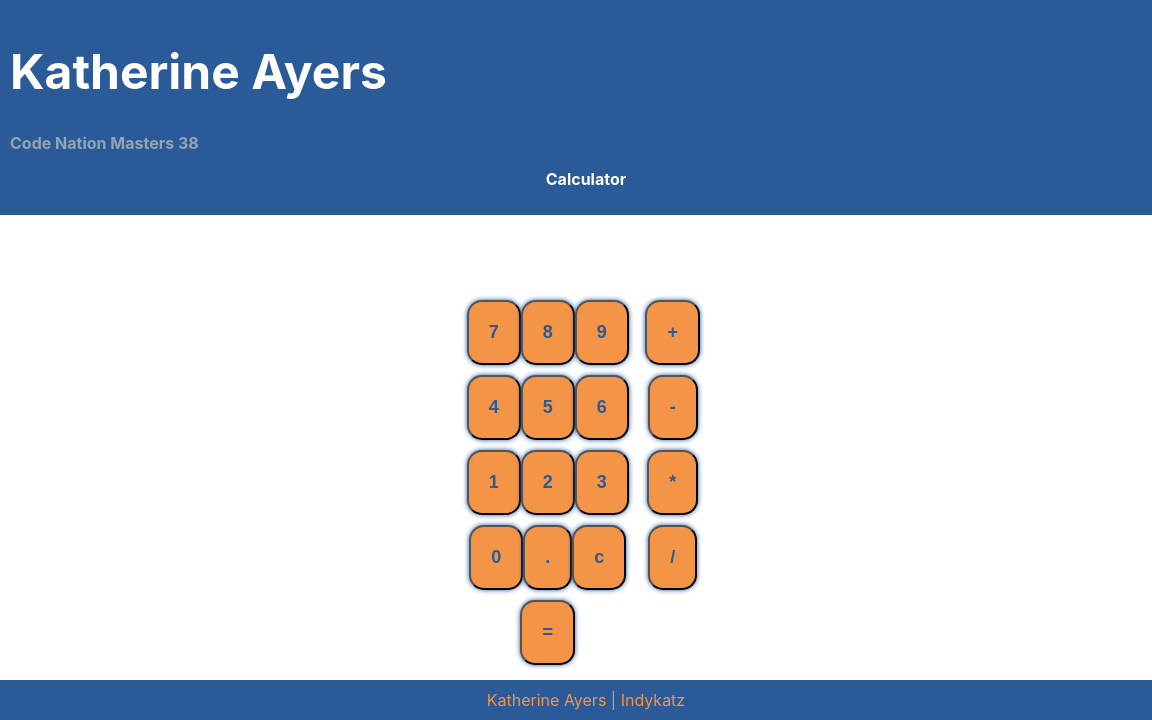
Test: should display 3 wen the user enters 3 * 2
Click the button "3" at [602, 483], box [575,450,629,515]
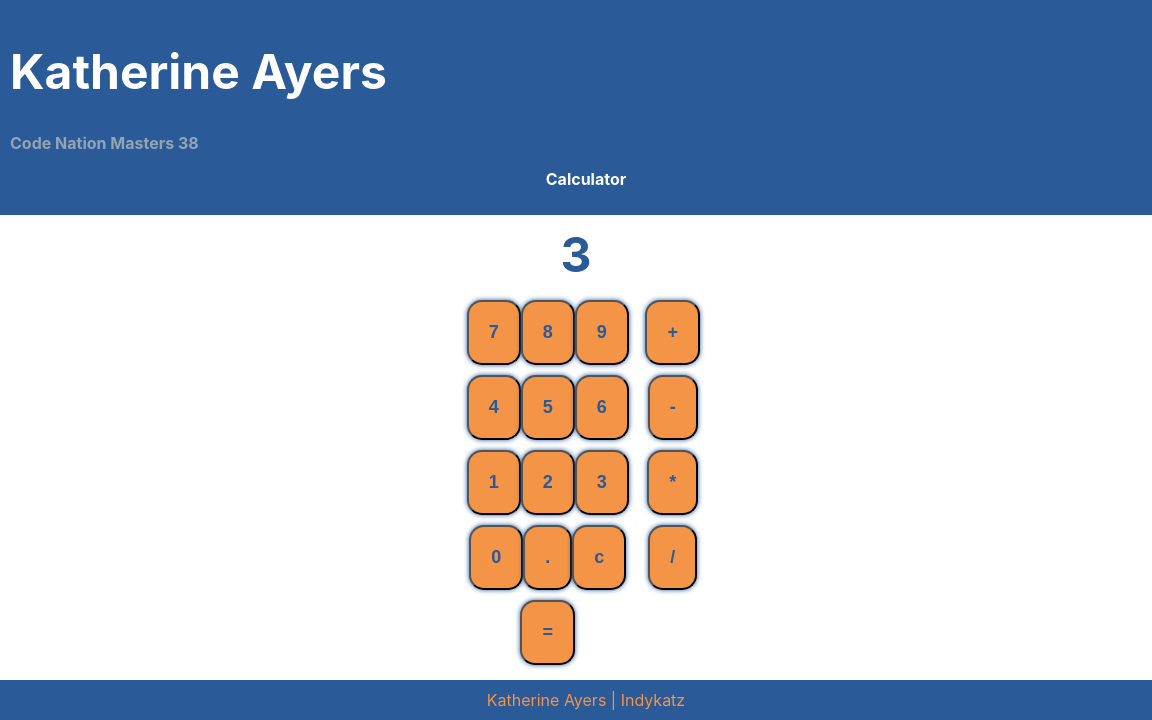
Click the button "*" at [673, 483], box [647,450,698,515]
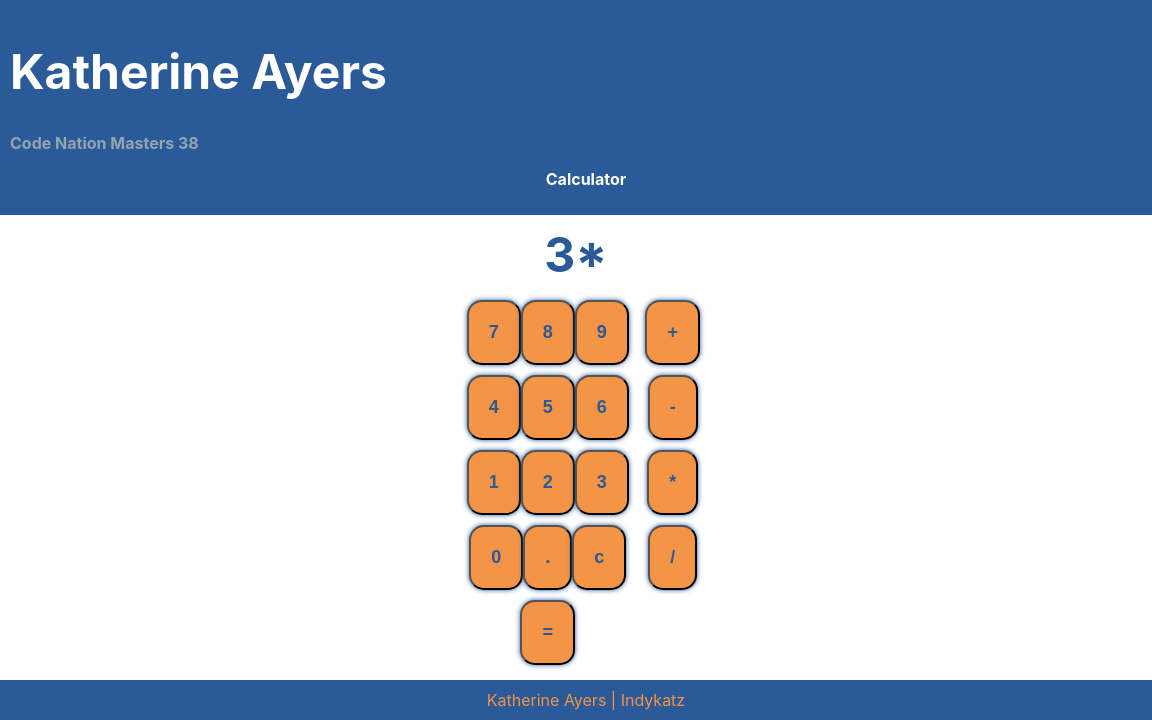
Click the button "2" at [548, 483], box [521,450,575,515]
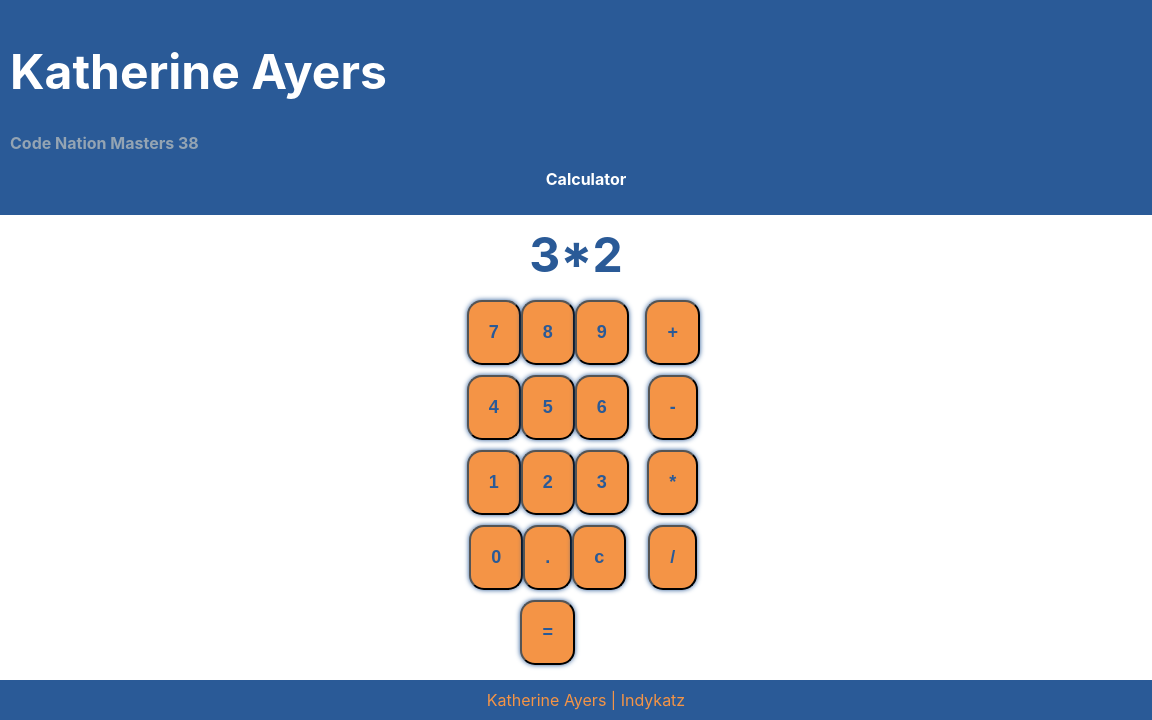
Click the button "=" at [548, 633], box [520,600,575,665]
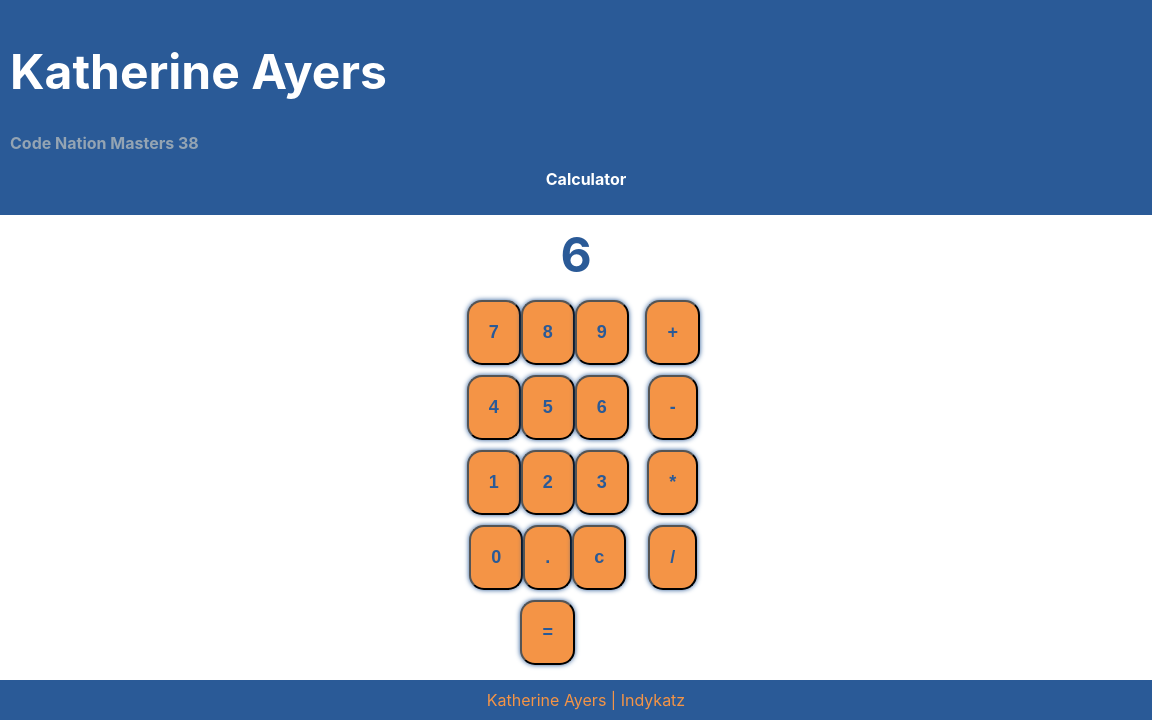
Expected: the heading with test id "display" reads "6", [560,225,592,284]
